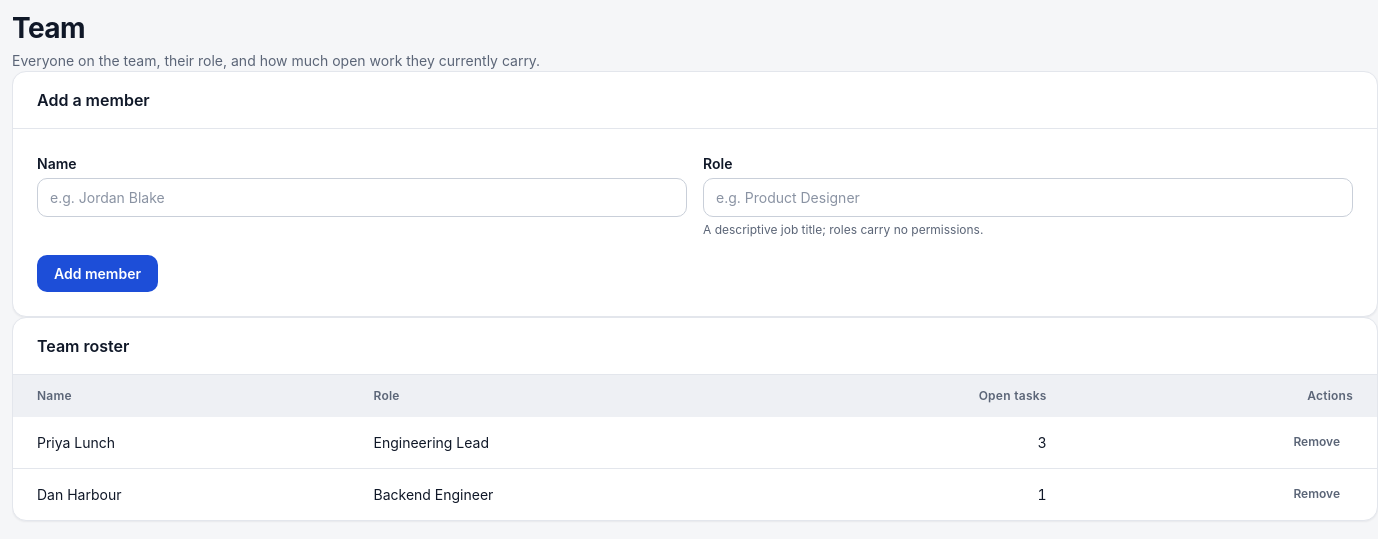
TeamRoster › removes a member through the API and drops them from the list
This screenshot has width=1378, height=539.
Check: the text "Dan Harbour" is shown, box [13, 468, 350, 520]
Click the button with aria-label "Remove Dan Harbour" at (1317, 494), box [1280, 481, 1353, 508]
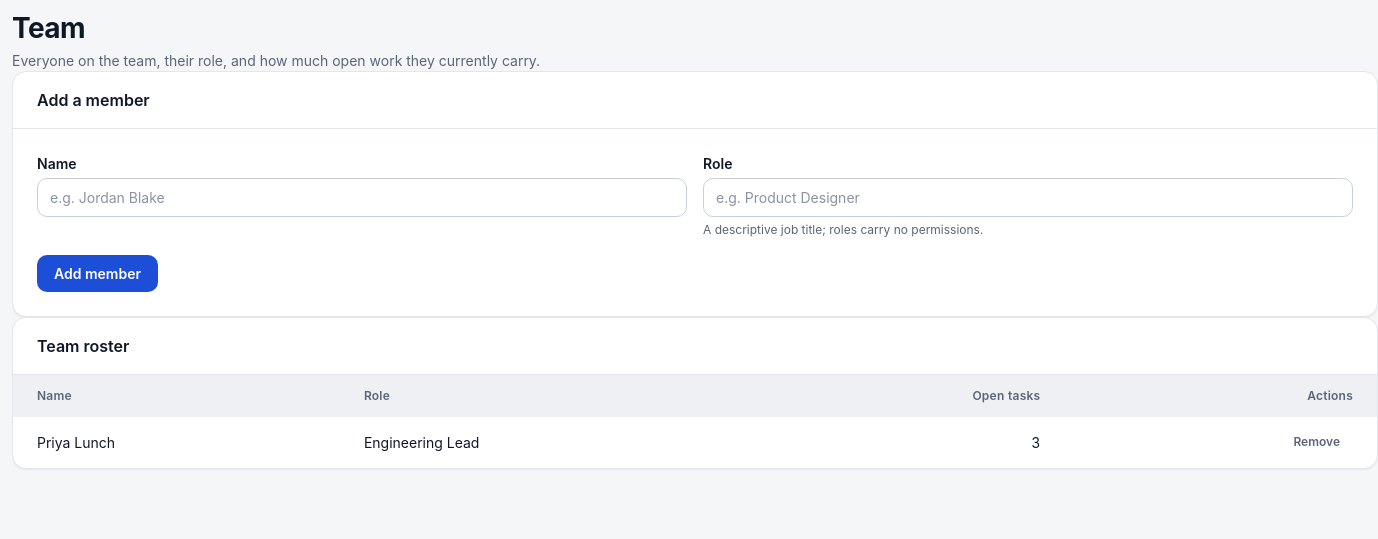
Check: the text "Priya Lunch" is shown, box [13, 417, 340, 468]
Check: the text "Dan Harbour" is gone
